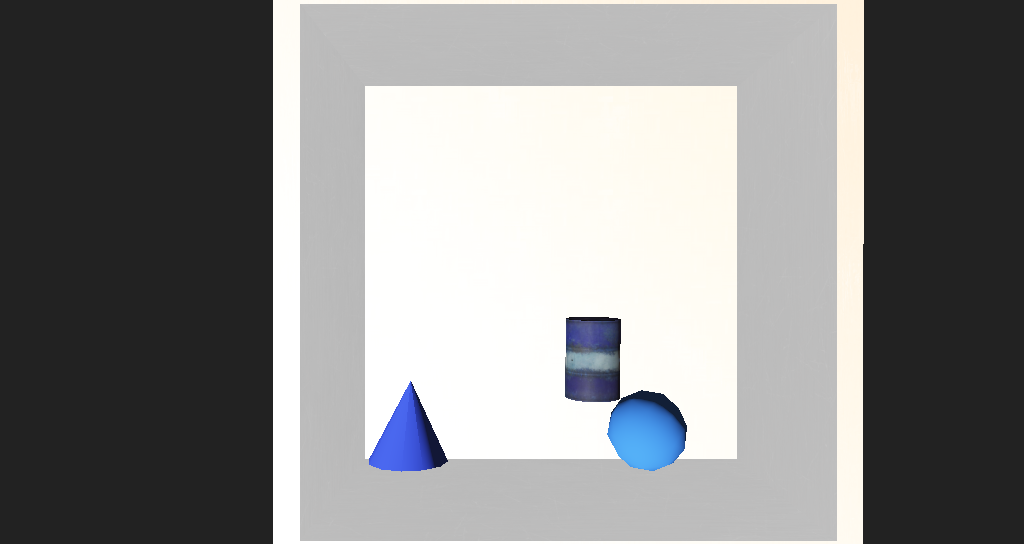cone: (515, 291, 563, 339)
cylinder: (354, 324, 428, 382)
sphere: (546, 334, 613, 382)
